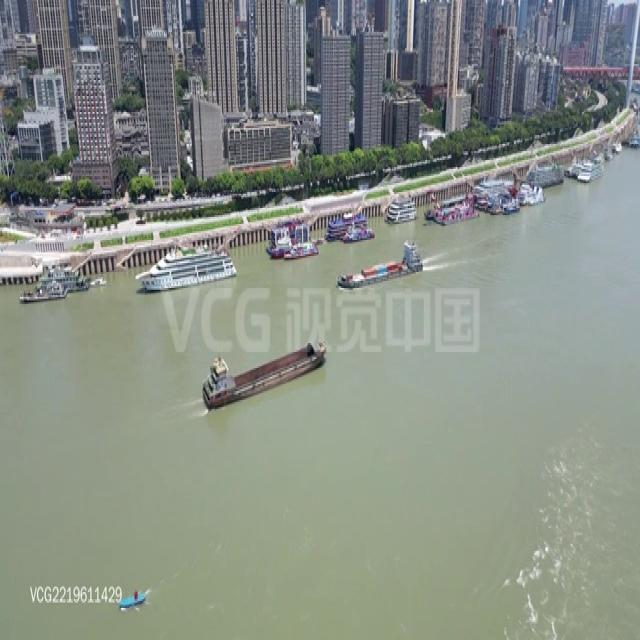cargoship: (199, 333, 330, 390), (334, 240, 446, 298)
passenger ship: (132, 238, 249, 282), (12, 273, 95, 314), (248, 210, 308, 256), (423, 172, 468, 230), (475, 156, 510, 221), (317, 204, 370, 241), (377, 187, 414, 220)
